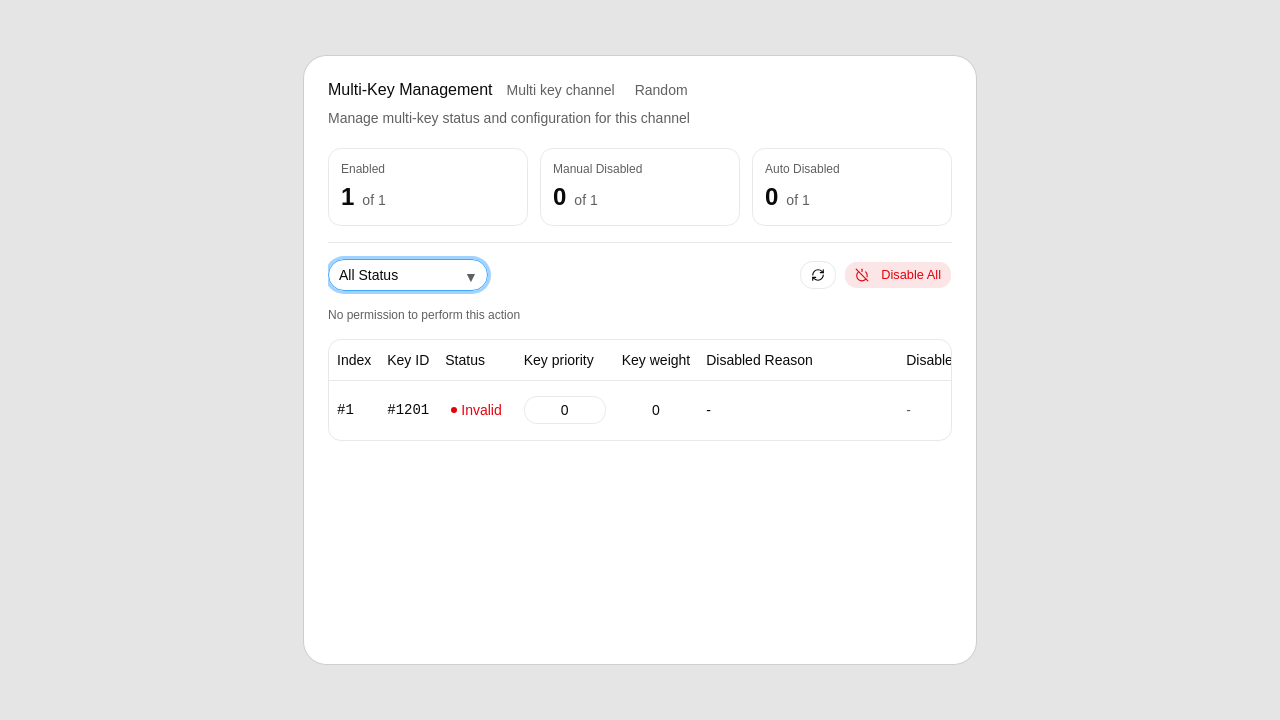
Test case: 多密钥管理状态 Tooltip 展示健康失败样本概括
The image size is (1280, 720).
Hover over the text "Invalid" at (482, 410), box x1=461 y1=400 x2=502 y2=421
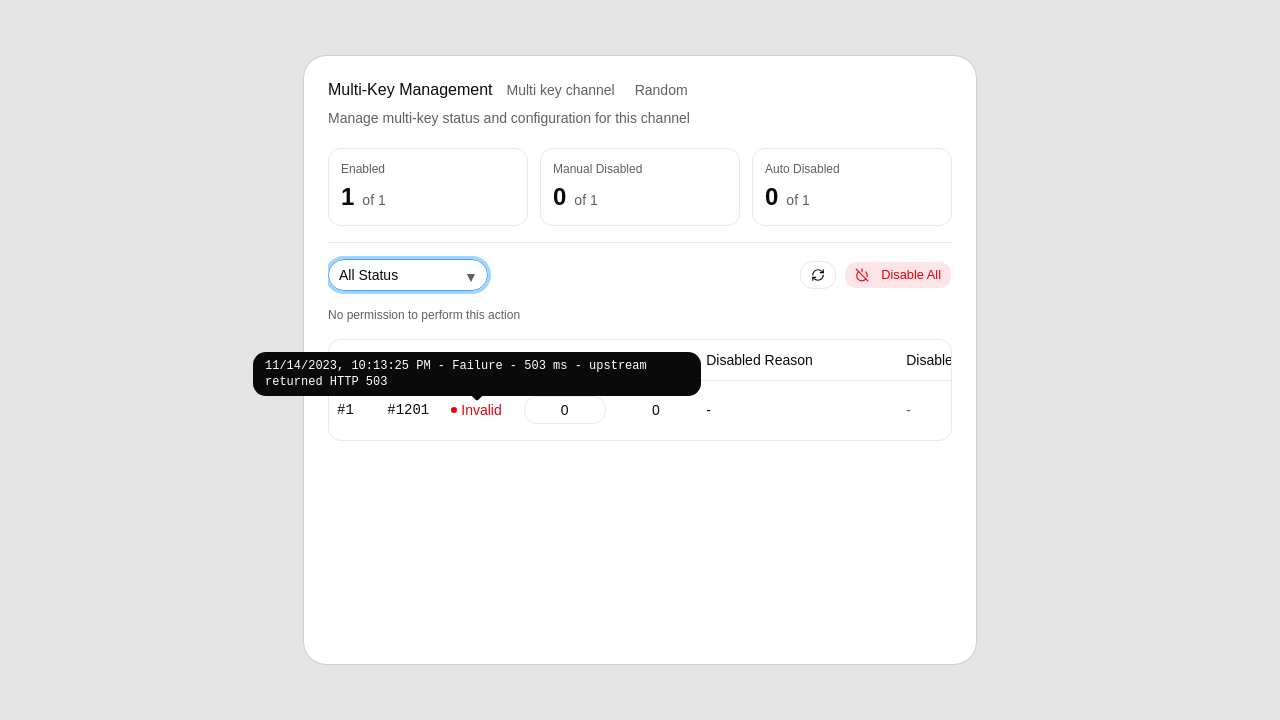
Expected: the text "Failure - 503 ms - upstream returned HTTP 503" is shown, x1=265 y1=358 x2=689 y2=390
